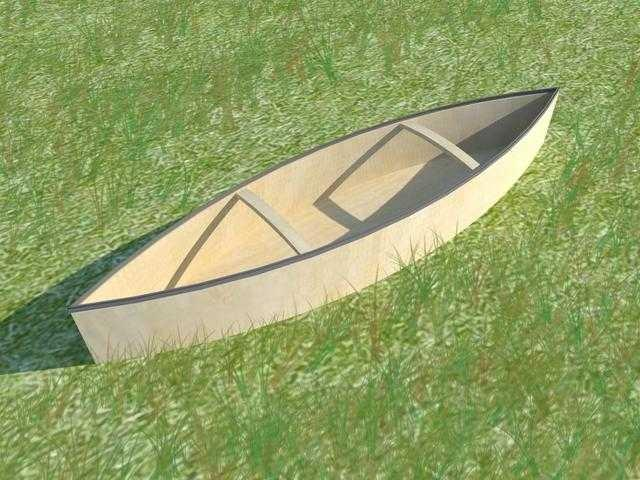kayak: (67, 90, 559, 368)
